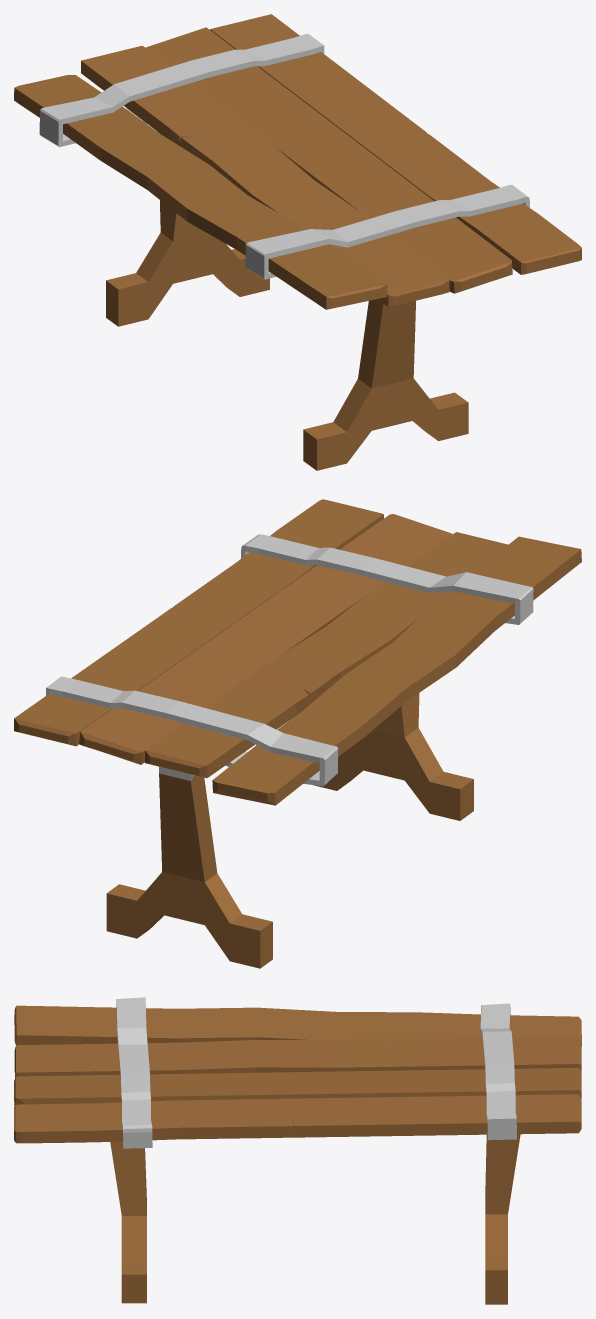
Rendered from Table.fbx.
The picture shows the model from 3 angles, top to bottom: view 1: azimuth 30°, elevation 25°; view 2: azimuth 150°, elevation 25°; view 3: azimuth 270°, elevation 25°; orthographic projection. The views are drawn at different scales.
Parts seen in each view (by area): view 1: Cube; view 2: Cube; view 3: Cube.
Part boxes in pixels (<box>): Cube: <box>14,14,581,470</box>; Cube: <box>14,499,581,968</box>; Cube: <box>14,997,581,1304</box>.
Bounding box in the file's own units: 1604 × 1285 × 3092.
